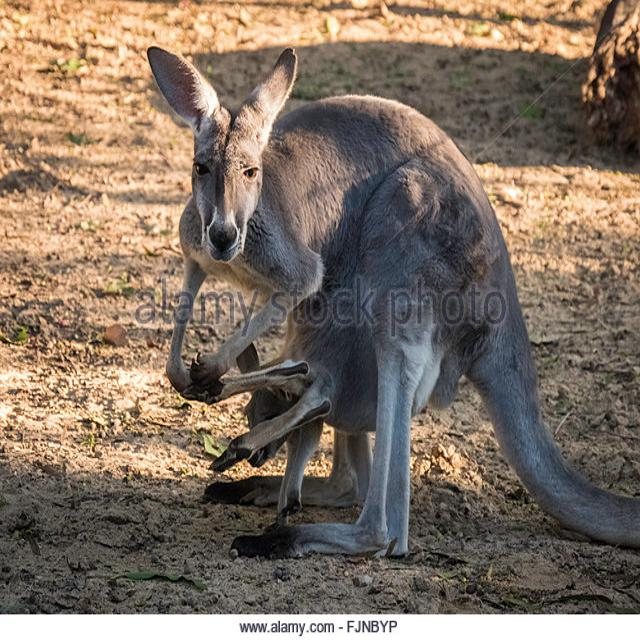kangaroo: (138, 35, 493, 548)
